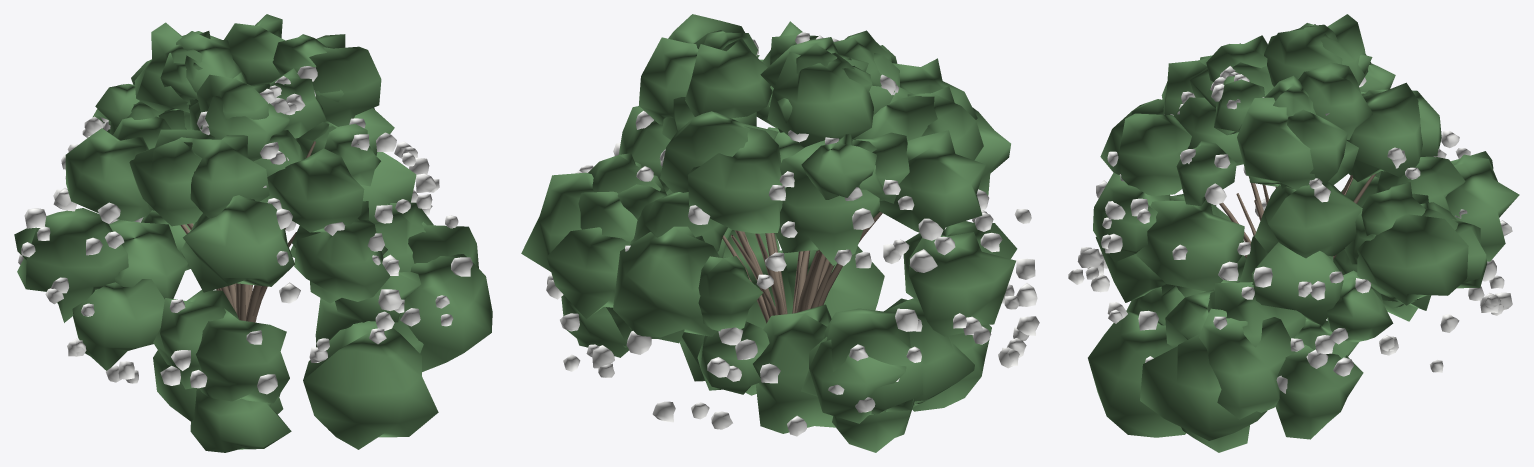
File: hawthorn-hedge-v1.glb
3 renders of one model, left to right at view 1: azimuth 30°, elevation 25°; view 2: azimuth 150°, elevation 25°; view 3: azimuth 270°, elevation 25°, orthographic. The views are drawn at different scales.
Parts seen in each view (by area): view 1: foliage, blossom, stems; view 2: foliage, blossom, stems; view 3: foliage, blossom, stems.
Part boxes in pixels (<box>): foliage: <box>14,14,492,452</box>; blossom: <box>18,66,472,394</box>; stems: <box>180,141,315,322</box>; foliage: <box>521,14,1017,452</box>; blossom: <box>546,32,1039,436</box>; stems: <box>722,212,882,323</box>; foliage: <box>1088,14,1519,452</box>; blossom: <box>1068,66,1512,393</box>; stems: <box>1219,173,1376,259</box>.
Bounding box in the file's own units: 1.36 × 1.19 × 1.36.
